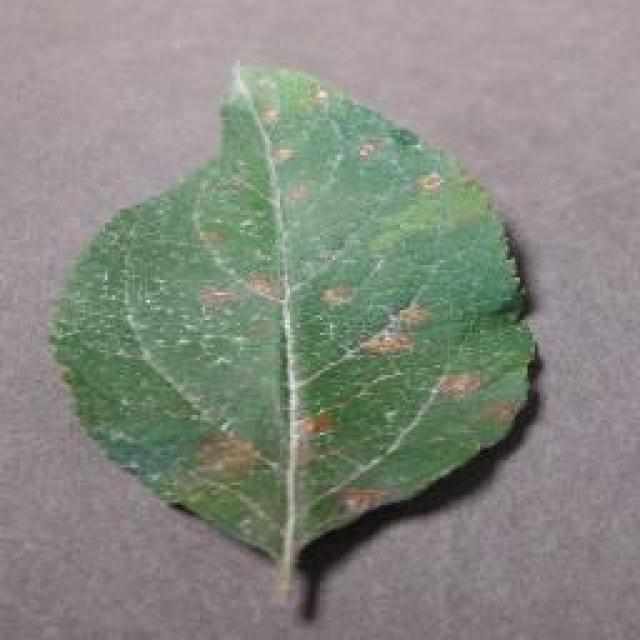apple cedar apple rust: (45, 58, 537, 598)
